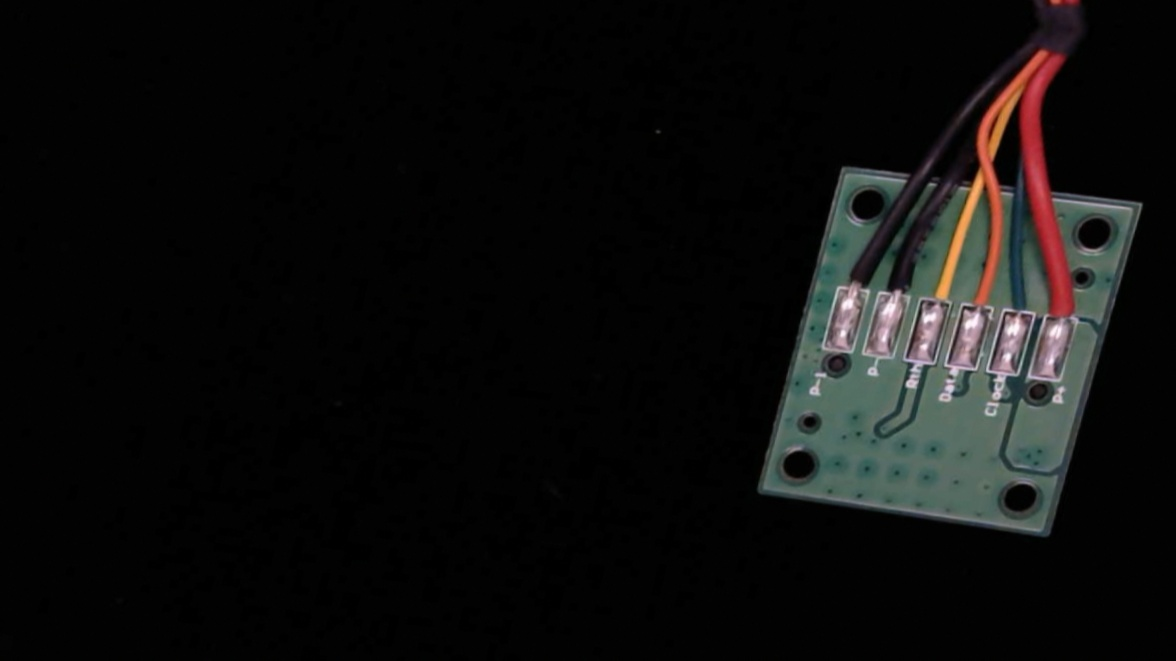Black: (874, 243, 924, 314)
Black1: (828, 239, 881, 310)
Green: (997, 269, 1045, 335)
Orange: (956, 252, 1008, 328)
Red: (1039, 278, 1088, 340)
Yellow: (913, 243, 968, 322)
